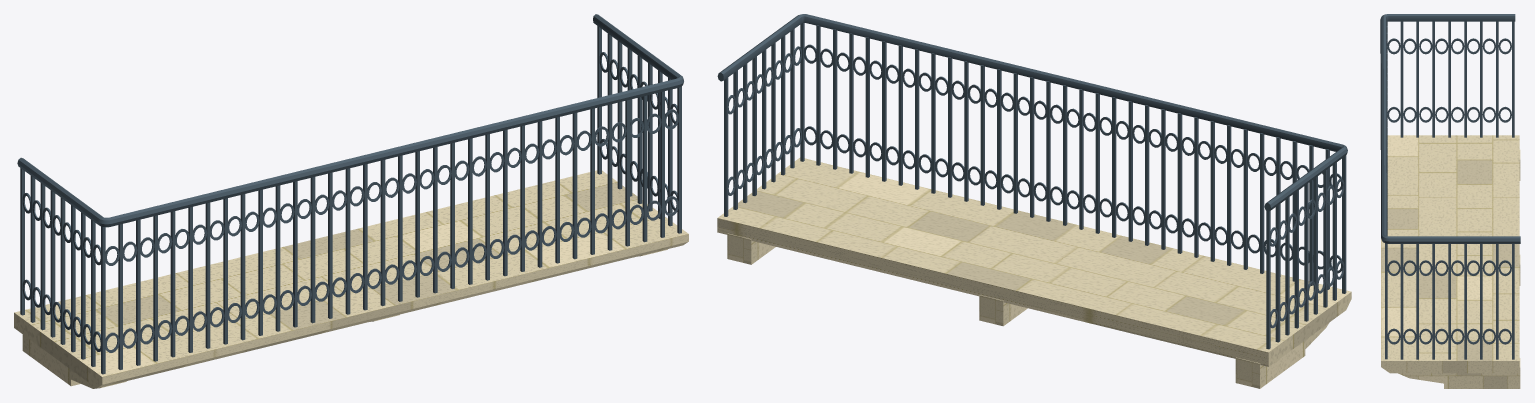
The model's file is Balcony.gltf.
The picture shows the model from 3 angles, left to right: view 1: azimuth 30°, elevation 25°; view 2: azimuth 150°, elevation 25°; view 3: azimuth 270°, elevation 25°; orthographic projection. The views are drawn at different scales.
Visible parts, largest first — view 1: Balcony; view 2: Balcony; view 3: Balcony.
Boxes of the visible parts, box(x1,y1,x2,y2) form: Balcony: box(14, 14, 688, 388); Balcony: box(717, 14, 1351, 388); Balcony: box(1380, 14, 1520, 388).
Size of the model in its own units: 3.97 by 1.27 by 1.04.
2 materials, 1 textured.
